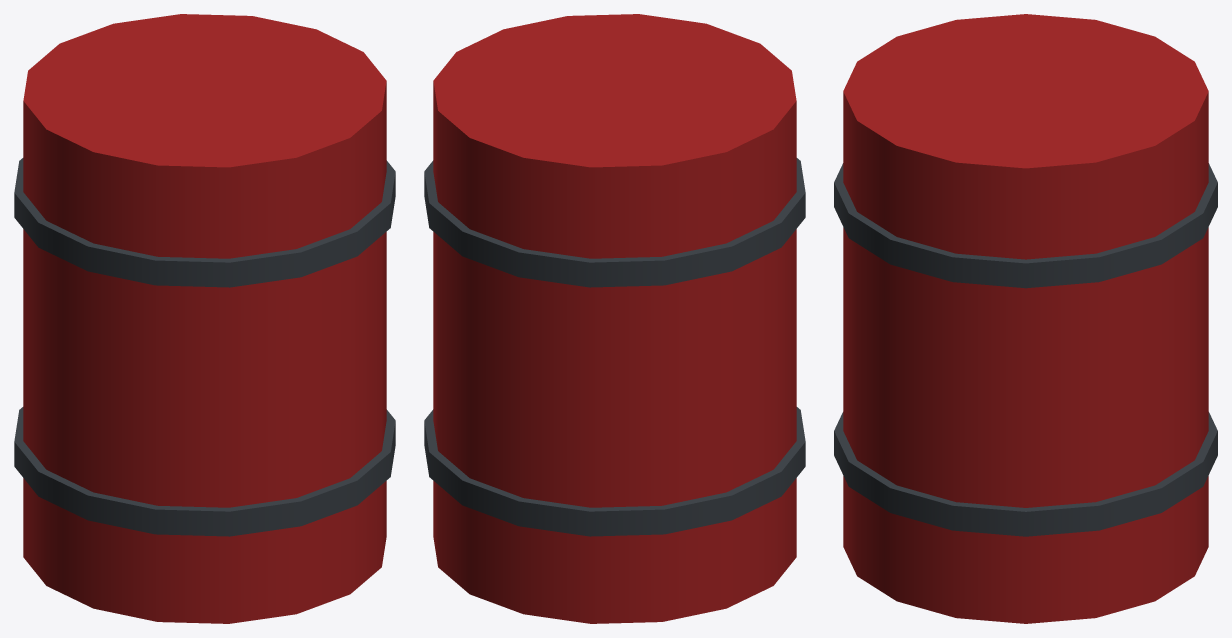
Rendered from barrel.glb.
3 renders of one model, left to right at view 1: azimuth 30°, elevation 25°; view 2: azimuth 150°, elevation 25°; view 3: azimuth 270°, elevation 25°, orthographic.
Visible parts, largest first — view 1: barrel; view 2: barrel; view 3: barrel.
Part boxes in pixels (x1,y1,x2,y2): barrel: (14,14,395,623); barrel: (424,14,805,623); barrel: (834,14,1217,623).
Size of the model in its own units: 0.84 by 1.1 by 0.84.
